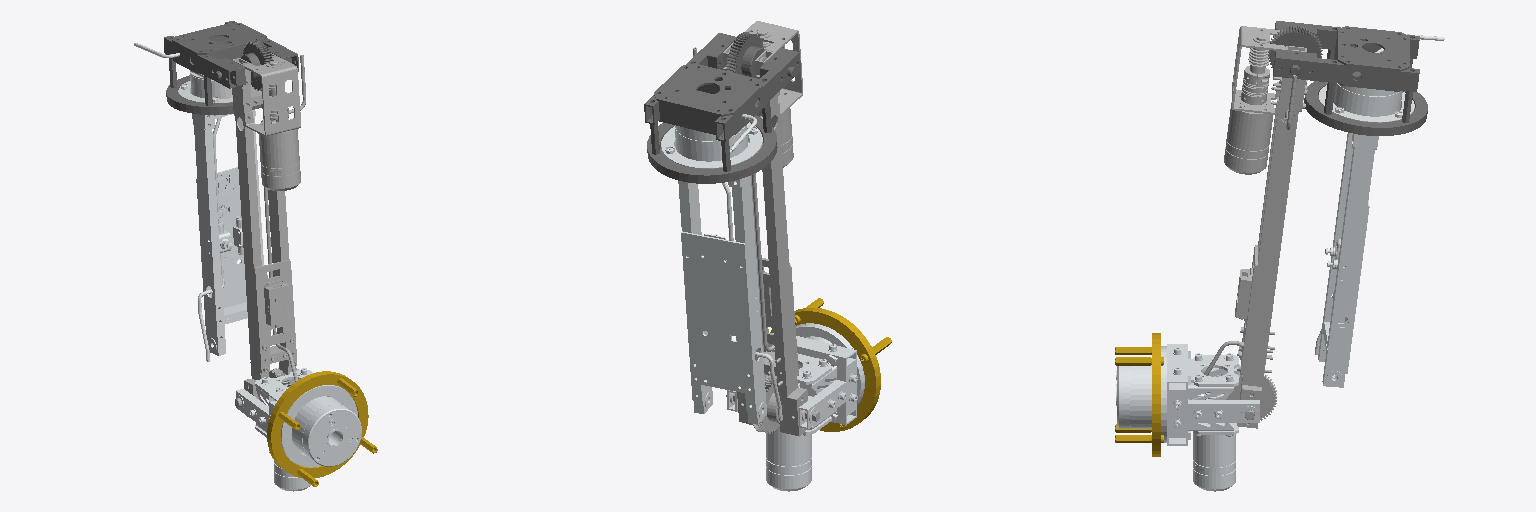
URDF robot description (gm_description):
<?xml version="1.0" encoding="utf-8"?>
<!-- This URDF was automatically created by SolidWorks to URDF Exporter! Originally created by [author] ([email redacted]) 
     Commit Version: 1.6.0-1-g15f4949  Build Version: 1.6.7594.29634
     For more information, please see http://wiki.ros.org/sw_urdf_exporter -->
<robot
  name="gm_description">
  <link
    name="base_link">
    <inertial>
      <origin
        xyz="-2.5645E-11 -0.011533 -5.7099E-13"
        rpy="0 0 0" />
      <mass
        value="0.11676" />
      <inertia
        ixx="0.00014497"
        ixy="-1.9055E-20"
        ixz="-1.8274E-20"
        iyy="0.00028671"
        iyz="8.8409E-21"
        izz="0.00014497" />
    </inertial>
    <visual>
      <origin
        xyz="0 0 0"
        rpy="0 0 0" />
      <geometry>
        <mesh
          filename="package://gm_description/meshes/base_link.STL" />
      </geometry>
      <material
        name="">
        <color
          rgba="0.83137 0.67059 0.12941 1" />
      </material>
    </visual>
    <collision>
      <origin
        xyz="0 0 0"
        rpy="0 0 0" />
      <geometry>
        <mesh
          filename="package://gm_description/meshes/base_link.STL" />
      </geometry>
    </collision>
  </link>
  <link
    name="Link_2">
    <inertial>
      <origin
        xyz="0.0009956 0.016253 -0.021775"
        rpy="0 0 0" />
      <mass
        value="0.98759" />
      <inertia
        ixx="0.00035371"
        ixy="-1.0067E-07"
        ixz="-2.8816E-07"
        iyy="0.00045929"
        iyz="5.0562E-07"
        izz="0.00032502" />
    </inertial>
    <visual>
      <origin
        xyz="0 0 0"
        rpy="0 0 0" />
      <geometry>
        <mesh
          filename="package://gm_description/meshes/Link_2.STL" />
      </geometry>
      <material
        name="">
        <color
          rgba="0.89804 0.91765 0.92941 1" />
      </material>
    </visual>
    <collision>
      <origin
        xyz="0 0 0"
        rpy="0 0 0" />
      <geometry>
        <mesh
          filename="package://gm_description/meshes/Link_2.STL" />
      </geometry>
    </collision>
  </link>
  <joint
    name="joint2"
    type="revolute">
    <origin
      xyz="0 0 0"
      rpy="0 0 0" />
    <parent
      link="base_link" />
    <child
      link="Link_2" />
    <axis
      xyz="0 1 0" />
    <limit
      lower="-3.14"
      upper="3.14"
      effort="150"
      velocity="5" />
    <calibration
      rising="0"
      falling="0" />
    <dynamics
      damping="0"
      friction="0" />
  </joint>
  <link
    name="Link_3">
    <inertial>
      <origin
        xyz="0.002667 0.19156 0.0023594"
        rpy="0 0 0" />
      <mass
        value="0.83124" />
      <inertia
        ixx="0.0010673"
        ixy="-0.00011829"
        ixz="-1.273E-06"
        iyy="0.00019357"
        iyz="-8.1355E-06"
        izz="0.0011102" />
    </inertial>
    <visual>
      <origin
        xyz="0 0 0"
        rpy="0 0 0" />
      <geometry>
        <mesh
          filename="package://gm_description/meshes/Link_3.STL" />
      </geometry>
      <material
        name="">
        <color
          rgba="0.75294 0.75294 0.75294 1" />
      </material>
    </visual>
    <collision>
      <origin
        xyz="0 0 0"
        rpy="0 0 0" />
      <geometry>
        <mesh
          filename="package://gm_description/meshes/Link_3.STL" />
      </geometry>
    </collision>
  </link>
  <joint
    name="joint3"
    type="revolute">
    <origin
      xyz="0 0.08 0"
      rpy="1.5708 0 1.5708" />
    <parent
      link="Link_2" />
    <child
      link="Link_3" />
    <axis
      xyz="0 0 -1" />
    <limit
      lower="-3.14"
      upper="3.14"
      effort="150"
      velocity="5" />
    <calibration
      rising="0"
      falling="0" />
    <dynamics
      damping="0"
      friction="0" />
  </joint>
  <link
    name="Link_4">
    <inertial>
      <origin
        xyz="-0.0013346 -0.012668 0.028552"
        rpy="0 0 0" />
      <mass
        value="0.39061" />
      <inertia
        ixx="0.00024933"
        ixy="-4.4996E-16"
        ixz="-1.9483E-08"
        iyy="0.00038987"
        iyz="2.5391E-14"
        izz="0.00020385" />
    </inertial>
    <visual>
      <origin
        xyz="0 0 0"
        rpy="0 0 0" />
      <geometry>
        <mesh
          filename="package://gm_description/meshes/Link_4.STL" />
      </geometry>
      <material
        name="">
        <color
          rgba="0.49804 0.49804 0.49804 1" />
      </material>
    </visual>
    <collision>
      <origin
        xyz="0 0 0"
        rpy="0 0 0" />
      <geometry>
        <mesh
          filename="package://gm_description/meshes/Link_4.STL" />
      </geometry>
    </collision>
  </link>
  <joint
    name="joint4"
    type="revolute">
    <origin
      xyz="0.043869 0.36739 0"
      rpy="0.11885 1.5708 0" />
    <parent
      link="Link_3" />
    <child
      link="Link_4" />
    <axis
      xyz="1 0 0" />
    <limit
      lower="-3.14"
      upper="3.14"
      effort="150"
      velocity="5" />
    <calibration
      rising="0"
      falling="0" />
    <dynamics
      damping="0"
      friction="0" />
  </joint>
  <link
    name="Link_5">
    <inertial>
      <origin
        xyz="-0.00076581 -0.0067649 0.12894"
        rpy="0 0 0" />
      <mass
        value="0.61324" />
      <inertia
        ixx="0.00063383"
        ixy="2.5963E-06"
        ixz="-6.9875E-07"
        iyy="0.00067799"
        iyz="3.8565E-06"
        izz="0.00036527" />
    </inertial>
    <visual>
      <origin
        xyz="0 0 0"
        rpy="0 0 0" />
      <geometry>
        <mesh
          filename="package://gm_description/meshes/Link_5.STL" />
      </geometry>
      <material
        name="">
        <color
          rgba="0.89804 0.91765 0.92941 1" />
      </material>
    </visual>
    <collision>
      <origin
        xyz="0 0 0"
        rpy="0 0 0" />
      <geometry>
        <mesh
          filename="package://gm_description/meshes/Link_5.STL" />
      </geometry>
    </collision>
  </link>
  <joint
    name="joint5"
    type="revolute">
    <origin
      xyz="0 0 0.075"
      rpy="1.5708 0 0" />
    <parent
      link="Link_4" />
    <child
      link="Link_5" />
    <axis
      xyz="0 0 -1" />
    <limit
      lower="-3.14"
      upper="3.14"
      effort="150"
      velocity="5" />
    <calibration
      rising="0"
      falling="0" />
    <dynamics
      damping="0"
      friction="0" />
  </joint>
  <link
    name="Link_6">
    <inertial>
      <origin
        xyz="0.0021493 -0.1395 -0.059113"
        rpy="0 0 0" />
      <mass
        value="2.4957" />
      <inertia
        ixx="0.012051"
        ixy="-3.2822E-07"
        ixz="2.0102E-06"
        iyy="0.15363"
        iyz="0.0031652"
        izz="0.15196" />
    </inertial>
    <visual>
      <origin
        xyz="0 0 0"
        rpy="0 0 0" />
      <geometry>
        <mesh
          filename="package://gm_description/meshes/Link_6.STL" />
      </geometry>
      <material
        name="">
        <color
          rgba="0.75294 0.75294 0.75294 1" />
      </material>
    </visual>
    <collision>
      <origin
        xyz="0 0 0"
        rpy="0 0 0" />
      <geometry>
        <mesh
          filename="package://gm_description/meshes/Link_6.STL" />
      </geometry>
    </collision>
  </link>
  <joint
    name="joint6"
    type="revolute">
    <origin
      xyz="0 0 0.327"
      rpy="-1.5708 0 -0.07856" />
    <parent
      link="Link_5" />
    <child
      link="Link_6" />
    <axis
      xyz="1 0 0" />
    <limit
      lower="-3.14"
      upper="3.14"
      effort="150"
      velocity="5" />
    <calibration
      rising="0"
      falling="0" />
    <dynamics
      damping="0"
      friction="0" />
  </joint>
</robot>

--- What the picture shows (computed from the rendered views, not written in the file) ---
The picture shows the robot from 3 angles, left to right: view 1: azimuth 30°, elevation 25°; view 2: azimuth 150°, elevation 25°; view 3: azimuth 270°, elevation 25°; orthographic projection.
Robot: gm_description — 6 links, 5 joints (5 revolute); root link base_link; default pose: all joints at 0.
Links seen in each view (by area): view 1: Link_3, Link_5, Link_2, Link_4, base_link; view 2: Link_5, Link_4, Link_3, Link_2, base_link; view 3: Link_3, Link_2, Link_4, Link_5, base_link.
Link boxes in pixels (<box>): Link_3: <box>232,53,305,416</box>; Link_5: <box>134,43,263,361</box>; Link_2: <box>236,368,361,491</box>; Link_4: <box>164,21,298,114</box>; base_link: <box>267,371,377,486</box>; Link_5: <box>661,114,782,424</box>; Link_4: <box>644,32,800,183</box>; Link_3: <box>693,21,819,436</box>; Link_2: <box>727,323,864,491</box>; base_link: <box>770,298,891,431</box>; Link_3: <box>1204,26,1307,428</box>; Link_2: <box>1116,344,1259,491</box>; Link_4: <box>1268,21,1427,135</box>; Link_5: <box>1315,34,1444,387</box>; base_link: <box>1115,333,1163,456</box>.
Bounding box of the posed robot: 0.1254 × 0.3184 × 0.492 m (x, y, z).
5 mesh visuals loaded from 6 distinct referenced files (5 binary STL); not drawn: 1 (reference not matched to a file when rendering).